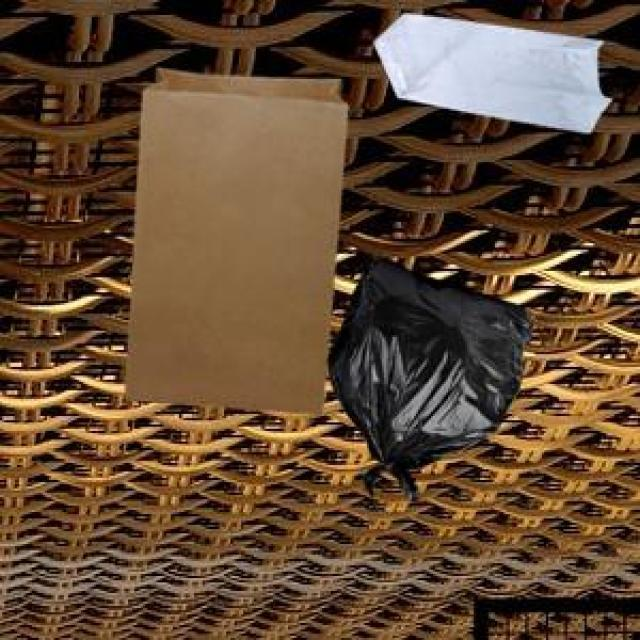miscellaneous trash: (324, 254, 529, 497)
paper: (122, 64, 344, 410)
